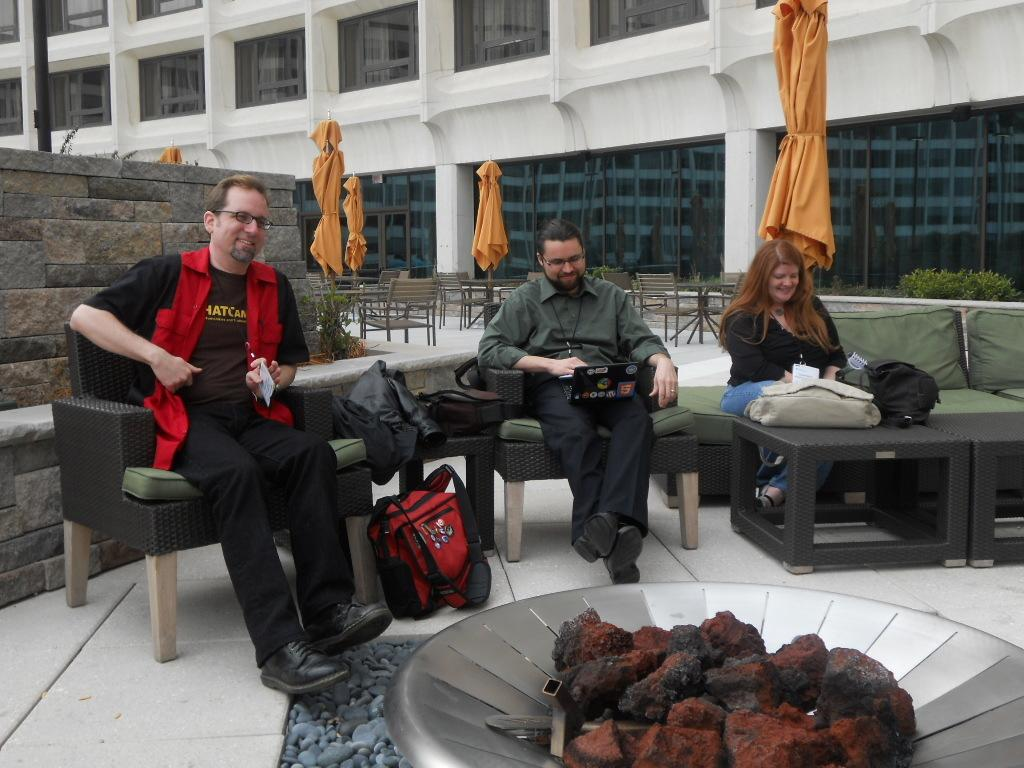Luggage-and-bags: (366, 470, 501, 619), (744, 378, 878, 428), (864, 355, 941, 429)
